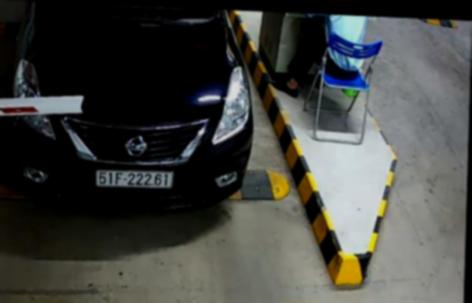License_Plate: (91, 165, 175, 191)
